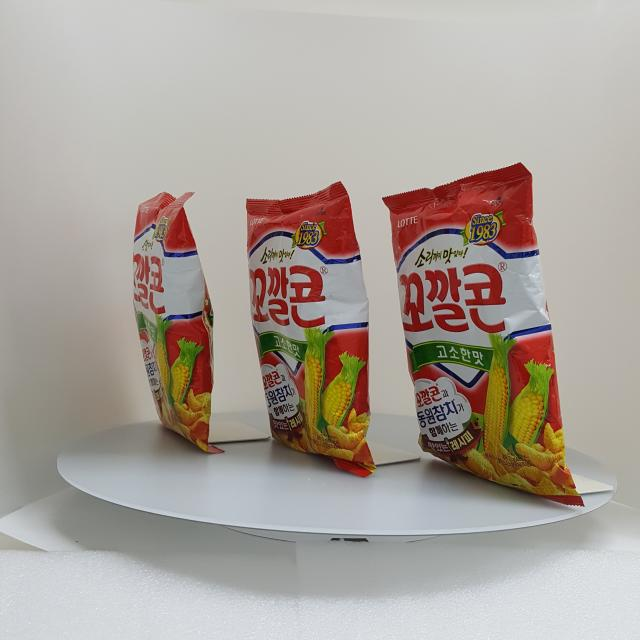-72G: (383, 163, 586, 507), (247, 182, 378, 479), (133, 192, 226, 454)
